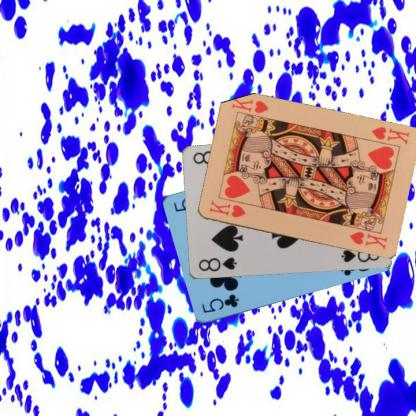5c: (199, 292, 240, 315)
8s: (196, 255, 238, 273)
Kh: (368, 124, 410, 147), (206, 198, 247, 220)
